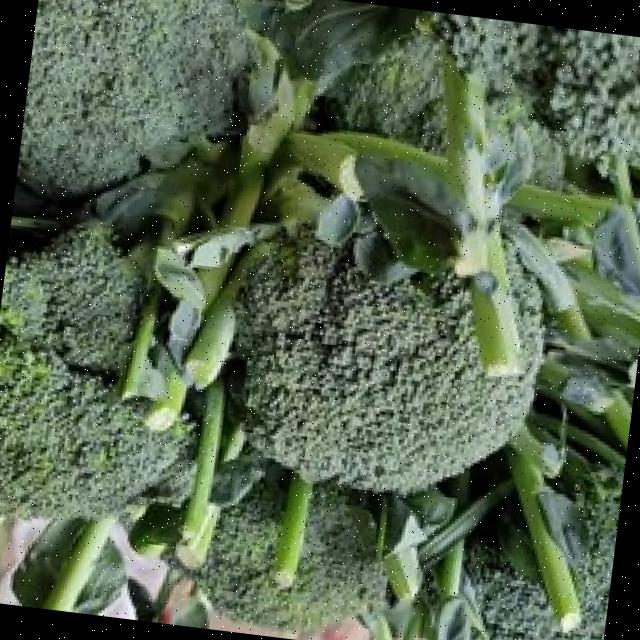Broccoli: (233, 232, 542, 491), (233, 232, 542, 491), (0, 224, 192, 518), (0, 224, 191, 518), (16, 0, 247, 194), (16, 0, 247, 194), (195, 464, 386, 630), (432, 12, 640, 163), (196, 465, 386, 630), (432, 12, 640, 162), (464, 498, 620, 640), (465, 498, 620, 640)
